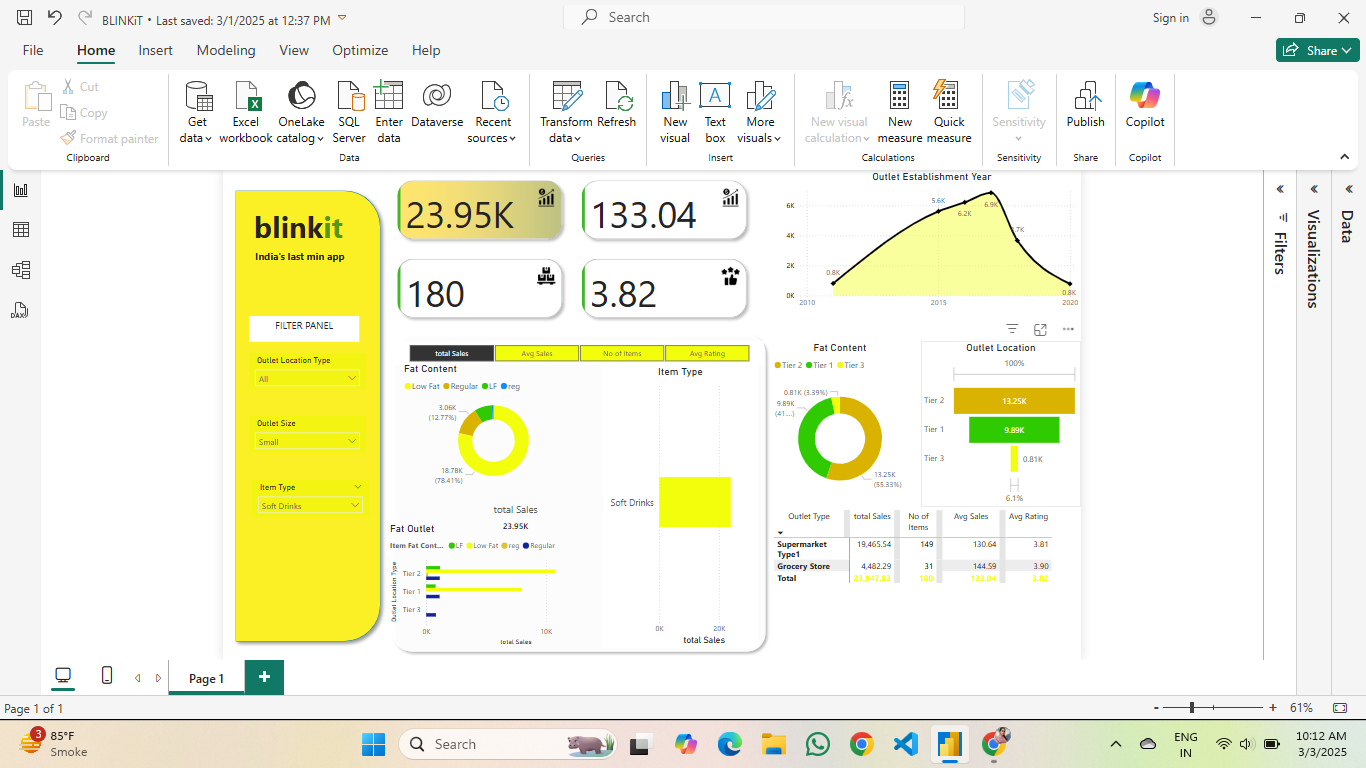

What the dashboard file says about the page in this screenshot:
{"tool":"powerbi","page":{"name":"Page 1","canvas":[1400,800],"ordinal":0},"visuals":[{"type":"shape","box":[9.8,22.9,258,757.6],"z":0},{"type":"textbox","box":[34.9,53.3,178.2,88.2],"z":1000},{"type":"textbox","box":[47.8,124.9,220.5,58.8],"z":2000},{"type":"cardVisual","fields":{"Data":["BlinkIT Grocery Data.total Sales","BlinkIT Grocery Data.Avg Sales","BlinkIT Grocery Data.No of Items","BlinkIT Grocery Data.Avg Rating"]},"box":[267.8,0,605.7,259.6],"z":3000},{"type":"shape","box":[267.8,259.6,626.9,535.5],"z":4000},{"type":"donutChart","title":"Fat Content","fields":{"Y":["BlinkIT Grocery Data.total Sales"],"Category":["BlinkIT Grocery Data.Item Fat Content"]},"box":[290.6,313.5,302,209],"z":5000},{"type":"slicer","fields":{"Values":["Metrics.Metrics"]},"box":[279.2,279.2,604.1,39.2],"z":6000},{"type":"cardVisual","fields":{"Data":["BlinkIT Grocery Data.total Sales"]},"box":[420.7,521.8,113.9,88.2],"z":7000},{"type":"clusteredBarChart","title":"Fat Outlet ","fields":{"Y":["BlinkIT Grocery Data.total Sales"],"Category":["BlinkIT Grocery Data.Outlet Location Type"],"Series":["BlinkIT Grocery Data.Item Fat Content"]},"box":[267.8,574.7,372.2,205.7],"z":8000},{"type":"barChart","title":" Item Type","fields":{"Y":["BlinkIT Grocery Data.total Sales"],"Category":["BlinkIT Grocery Data.Item Type"]},"box":[620.4,318.4,253.1,462],"z":9000},{"type":"lineChart","title":"Outlet Establishment Year","fields":{"Category":["BlinkIT Grocery Data.Outlet Establishment Year"],"Y":["BlinkIT Grocery Data.total Sales"]},"box":[914.3,0,486.5,235.1],"z":10000},{"type":"donutChart","title":"Fat Content","fields":{"Y":["BlinkIT Grocery Data.total Sales"],"Category":["BlinkIT Grocery Data.Outlet Location Type"]},"box":[894.7,279.2,225.3,271],"z":11000},{"type":"funnel","title":"Outlet Location ","fields":{"Y":["Sum(BlinkIT Grocery Data.Sales)"],"Category":["BlinkIT Grocery Data.Outlet Location Type"]},"box":[1139.6,279.2,261.2,271],"z":12000},{"type":"pivotTable","fields":{"Rows":["BlinkIT Grocery Data.Outlet Type"],"Values":["BlinkIT Grocery Data.total Sales","BlinkIT Grocery Data.No of Items","BlinkIT Grocery Data.Avg Sales","BlinkIT Grocery Data.Avg Rating"]},"box":[894.7,550.2,506.1,249.8],"z":13000},{"type":"slicer","fields":{"Values":["BlinkIT Grocery Data.Outlet Location Type"]},"box":[42.4,298.8,191,60.4],"z":14000},{"type":"slicer","fields":{"Values":["BlinkIT Grocery Data.Outlet Size"]},"box":[42.4,401.6,191,60.4],"z":15000},{"type":"slicer","fields":{"Values":["BlinkIT Grocery Data.Item Type"]},"box":[47.3,506.1,191,60.4],"z":16000},{"type":"textbox","box":[42.4,238.4,179.6,42.4],"z":17000}]}

Visuals, with their boxes on the page's 1400x800 design canvas (x1, y1, x2, y2). These are canvas units, not pixel positions in the 1366x768 screenshot, which may show the page scaled, cropped or inside an application window:
shape: (10, 23, 268, 780)
textbox: (35, 53, 213, 142)
textbox: (48, 125, 268, 184)
cardVisual - BlinkIT Grocery Data.total Sales x BlinkIT Grocery Data.Avg Sales: (268, 0, 874, 260)
shape: (268, 260, 895, 795)
"Fat Content" donutChart: (291, 314, 593, 522)
slicer - Metrics.Metrics: (279, 279, 883, 318)
cardVisual - BlinkIT Grocery Data.total Sales: (421, 522, 535, 610)
"Fat Outlet " clusteredBarChart: (268, 575, 640, 780)
" Item Type" barChart: (620, 318, 874, 780)
"Outlet Establishment Year" lineChart: (914, 0, 1401, 235)
"Fat Content" donutChart: (895, 279, 1120, 550)
"Outlet Location " funnel: (1140, 279, 1401, 550)
pivotTable - BlinkIT Grocery Data.Outlet Type x BlinkIT Grocery Data.total Sales: (895, 550, 1401, 800)
slicer - BlinkIT Grocery Data.Outlet Location Type: (42, 299, 233, 359)
slicer - BlinkIT Grocery Data.Outlet Size: (42, 402, 233, 462)
slicer - BlinkIT Grocery Data.Item Type: (47, 506, 238, 566)
textbox: (42, 238, 222, 281)
